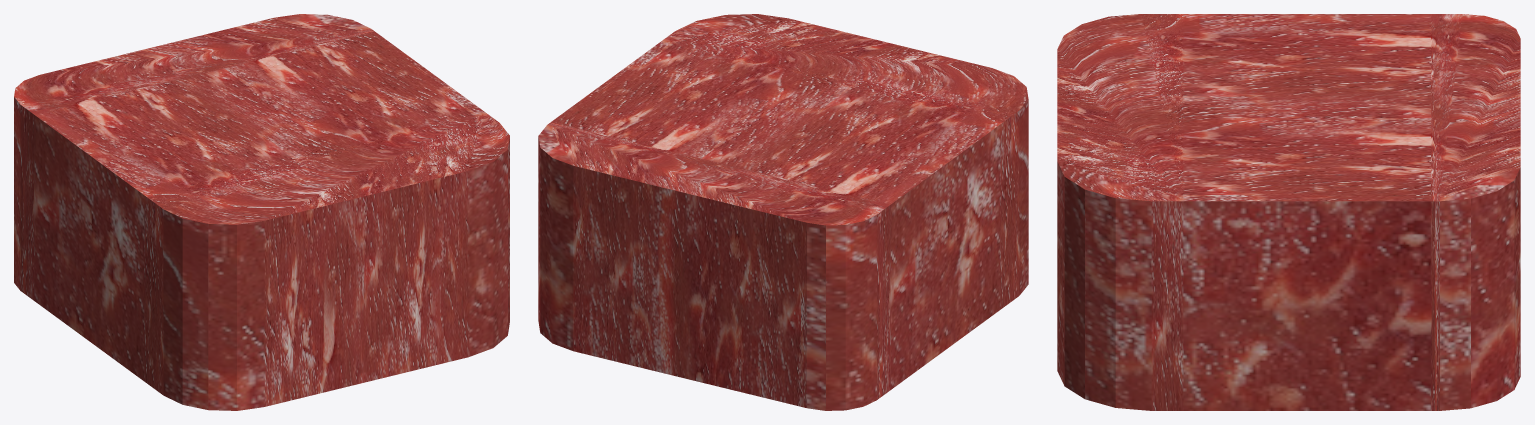
File: daging-kecil.fbx
The picture shows the model from 3 angles, left to right: view 1: azimuth 30°, elevation 25°; view 2: azimuth 150°, elevation 25°; view 3: azimuth 270°, elevation 25°; orthographic projection. The views are drawn at different scales.
Visible parts, largest first — view 1: Cube; view 2: Cube; view 3: Cube.
Boxes of the visible parts, x1,y1,x2,y2 form: Cube: [14, 14, 509, 410]; Cube: [538, 14, 1028, 410]; Cube: [1057, 14, 1520, 410].
Bounding box in the file's own units: 52.28 × 27.3 × 54.64.
